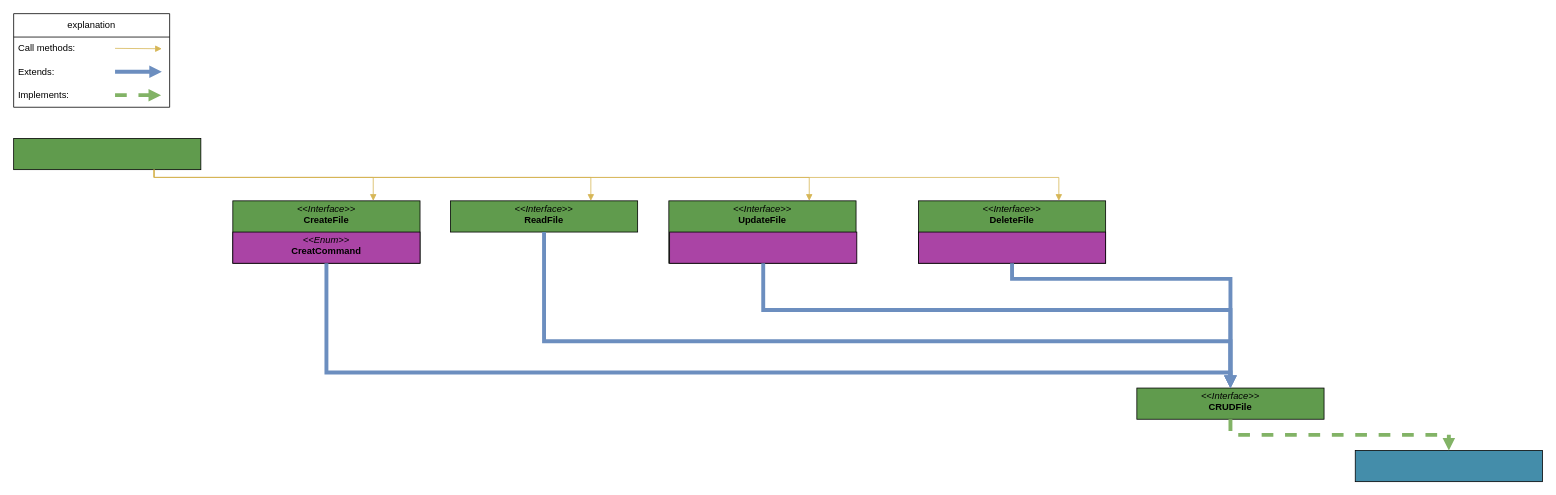
Some shapes in this 1556 by 495 pixel diagram are drawn without their labels. Here are the shapes that lost their labels. From the top down, the centre of each, then its label:
At pixel 107 154: "<<Interface>> FileFuncional".
At pixel 763 247: "<<Enum>> UpdateCommand".
At pixel 1012 247: "<<Enum>> DeleteCommand".
At pixel 1448 466: "<<Class>> FileHandler".
